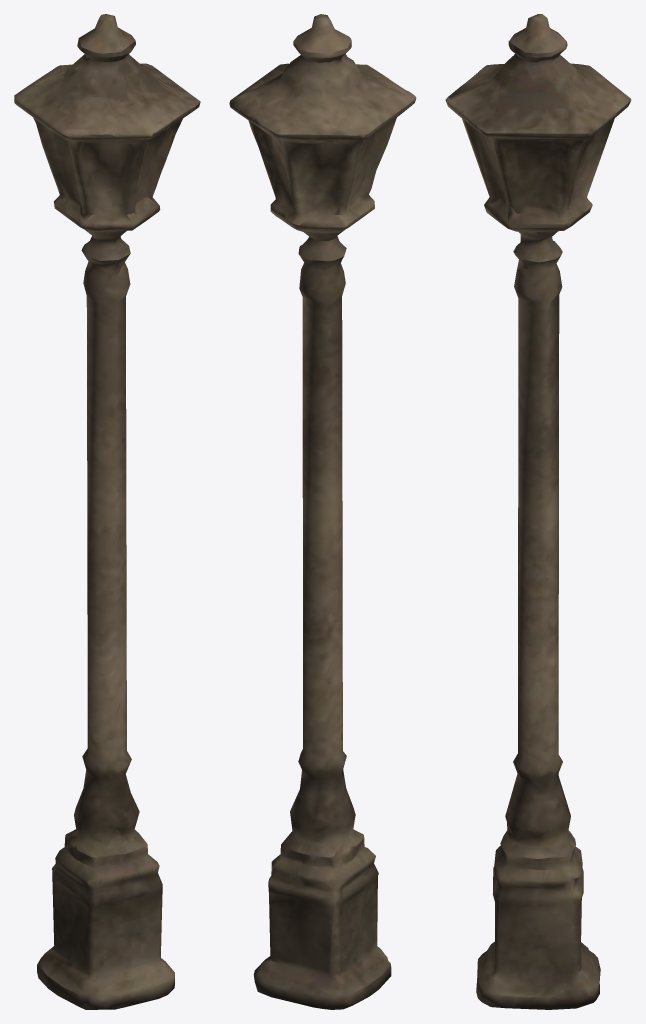
The model's file is rustic-wood-lamp-post-v001.glb.
3 views of the same model, side by side, from view 1: azimuth 30°, elevation 25°; view 2: azimuth 150°, elevation 25°; view 3: azimuth 270°, elevation 25° (orthographic).
Visible parts, largest first — view 1: rustic-wood-lamp-post; view 2: rustic-wood-lamp-post; view 3: rustic-wood-lamp-post.
Boxes of the visible parts, x1=… form: rustic-wood-lamp-post: x1=14, y1=14, x2=200, y2=1009; rustic-wood-lamp-post: x1=229, y1=14, x2=416, y2=1009; rustic-wood-lamp-post: x1=445, y1=14, x2=631, y2=1009.
Bounding box in the file's own units: 0.4187 × 2.81 × 0.4882.
Materials: 1 (1 with a texture image).
